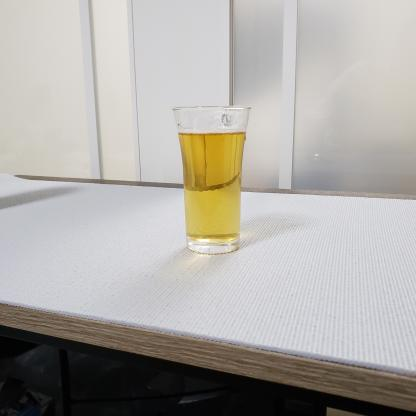glass: (164, 96, 268, 258)
